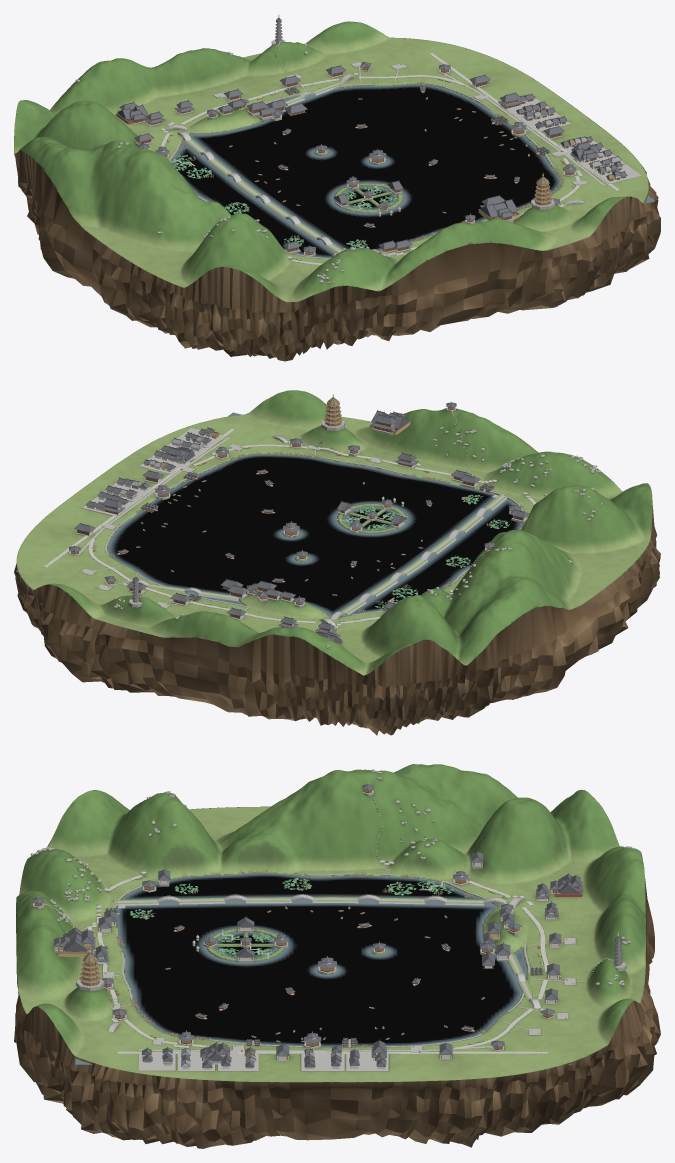
The picture shows the model from 3 angles, top to bottom: view 1: azimuth 30°, elevation 25°; view 2: azimuth 150°, elevation 25°; view 3: azimuth 270°, elevation 25°; orthographic projection. The views are drawn at different scales.
Visible parts, largest first — view 1: Island, Water, ShorePark, SouthShore, NorthShore, EastShore, SuDi, GuShan, Town, XiaoYingZhou; view 2: Island, Water, ShorePark, SouthShore, EastShore, SuDi, NorthShore, GuShan, Town, HillRocks, XiaoYingZhou, Embankment; view 3: Island, Water, ShorePark, SouthShore, SuDi, NorthShore, Town, EastShore, GuShan, HillRocks, XiaoYingZhou, Embankment.
Part boxes in pixels (x1=…): Island: x1=14, y1=21, x2=660, y2=361; Water: x1=171, y1=84, x2=655, y2=257; ShorePark: x1=160, y1=52, x2=620, y2=264; SouthShore: x1=282, y1=173, x2=584, y2=256; NorthShore: x1=116, y1=14, x2=371, y2=166; EastShore: x1=439, y1=64, x2=604, y2=185; SuDi: x1=177, y1=131, x2=342, y2=253; GuShan: x1=207, y1=98, x2=307, y2=121; Town: x1=506, y1=98, x2=641, y2=183; XiaoYingZhou: x1=334, y1=176, x2=403, y2=216; Island: x1=14, y1=390, x2=660, y2=735; Water: x1=16, y1=412, x2=522, y2=658; ShorePark: x1=43, y1=428, x2=536, y2=627; SouthShore: x1=272, y1=393, x2=529, y2=523; EastShore: x1=69, y1=437, x2=229, y2=555; SuDi: x1=330, y1=493, x2=508, y2=620; NorthShore: x1=104, y1=573, x2=396, y2=643; GuShan: x1=220, y1=578, x2=305, y2=607; Town: x1=82, y1=428, x2=224, y2=515; HillRocks: x1=114, y1=427, x2=602, y2=648; XiaoYingZhou: x1=336, y1=496, x2=407, y2=533; Embankment: x1=105, y1=457, x2=523, y2=615; Island: x1=14, y1=764, x2=660, y2=1148; Water: x1=75, y1=872, x2=571, y2=1064; ShorePark: x1=87, y1=860, x2=575, y2=1053; SouthShore: x1=54, y1=869, x2=170, y2=1032; SuDi: x1=114, y1=894, x2=506, y2=905; NorthShore: x1=419, y1=850, x2=626, y2=1019; Town: x1=139, y1=1052, x2=388, y2=1071; EastShore: x1=139, y1=1030, x2=504, y2=1064; GuShan: x1=480, y1=903, x2=521, y2=969; HillRocks: x1=30, y1=769, x2=632, y2=985; XiaoYingZhou: x1=192, y1=916, x2=288, y2=962; Embankment: x1=114, y1=873, x2=530, y2=1047.
Bounding box in the file's own units: 182 × 54.24 × 175.
